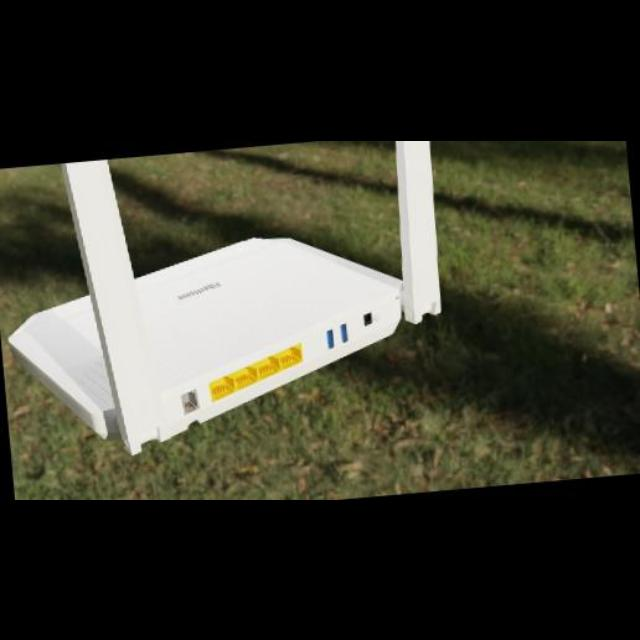Router: (8, 141, 450, 453)
